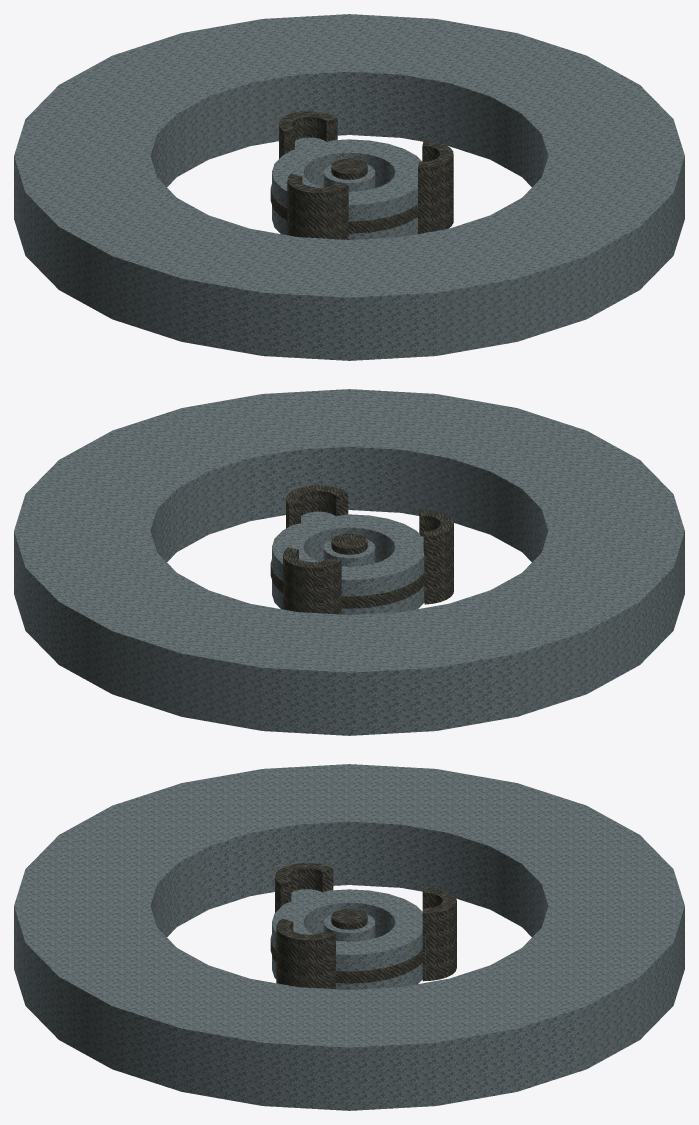
The model's file is lvl1.fbx.
3 views of the same model, one above another, from view 1: azimuth 30°, elevation 25°; view 2: azimuth 150°, elevation 25°; view 3: azimuth 270°, elevation 25° (orthographic).
Visible parts, largest first — view 1: mergedBlocks; view 2: mergedBlocks; view 3: mergedBlocks.
Part boxes in pixels (<box>): mergedBlocks: <box>14,14,684,360</box>; mergedBlocks: <box>14,389,684,735</box>; mergedBlocks: <box>14,764,684,1110</box>.
Bounding box in the file's own units: 389 × 43.2 × 389.
